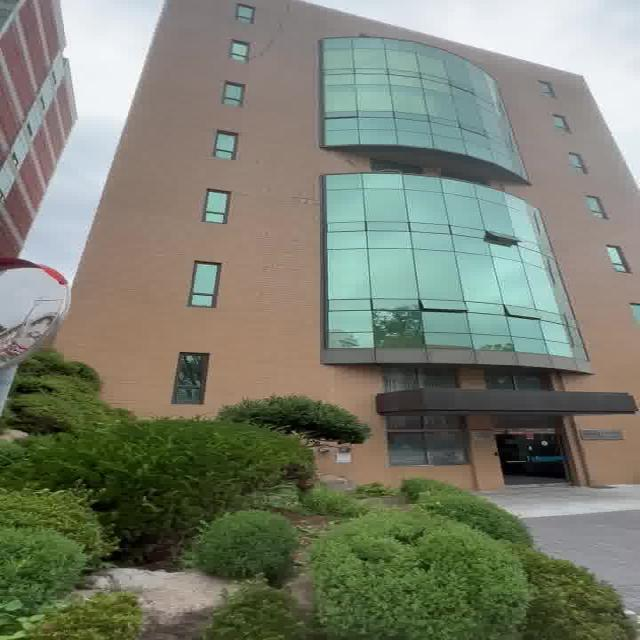building: (121, 18, 640, 383)
